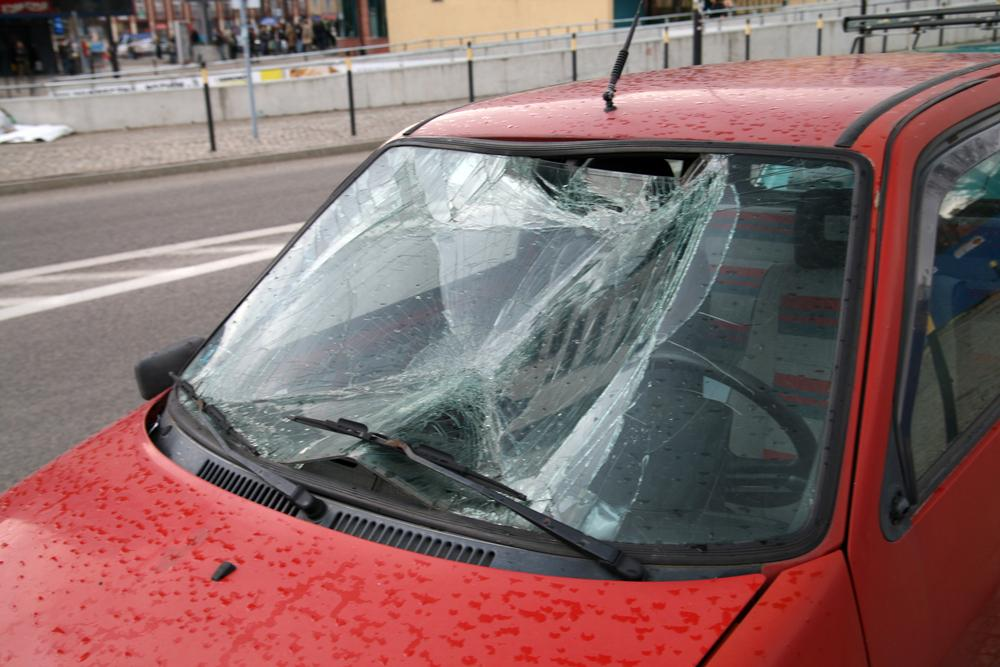glass shatter: (181, 145, 857, 545)
